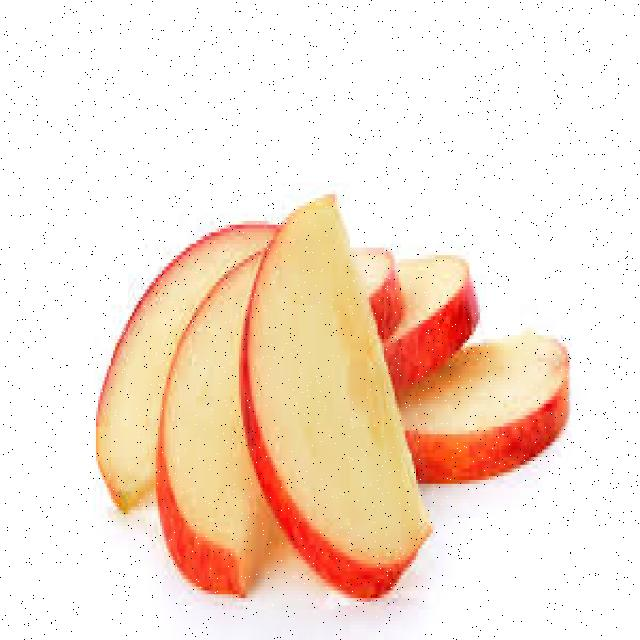Apple: (241, 194, 420, 572), (157, 252, 256, 618), (86, 233, 208, 504), (404, 334, 580, 479), (388, 243, 484, 363)
